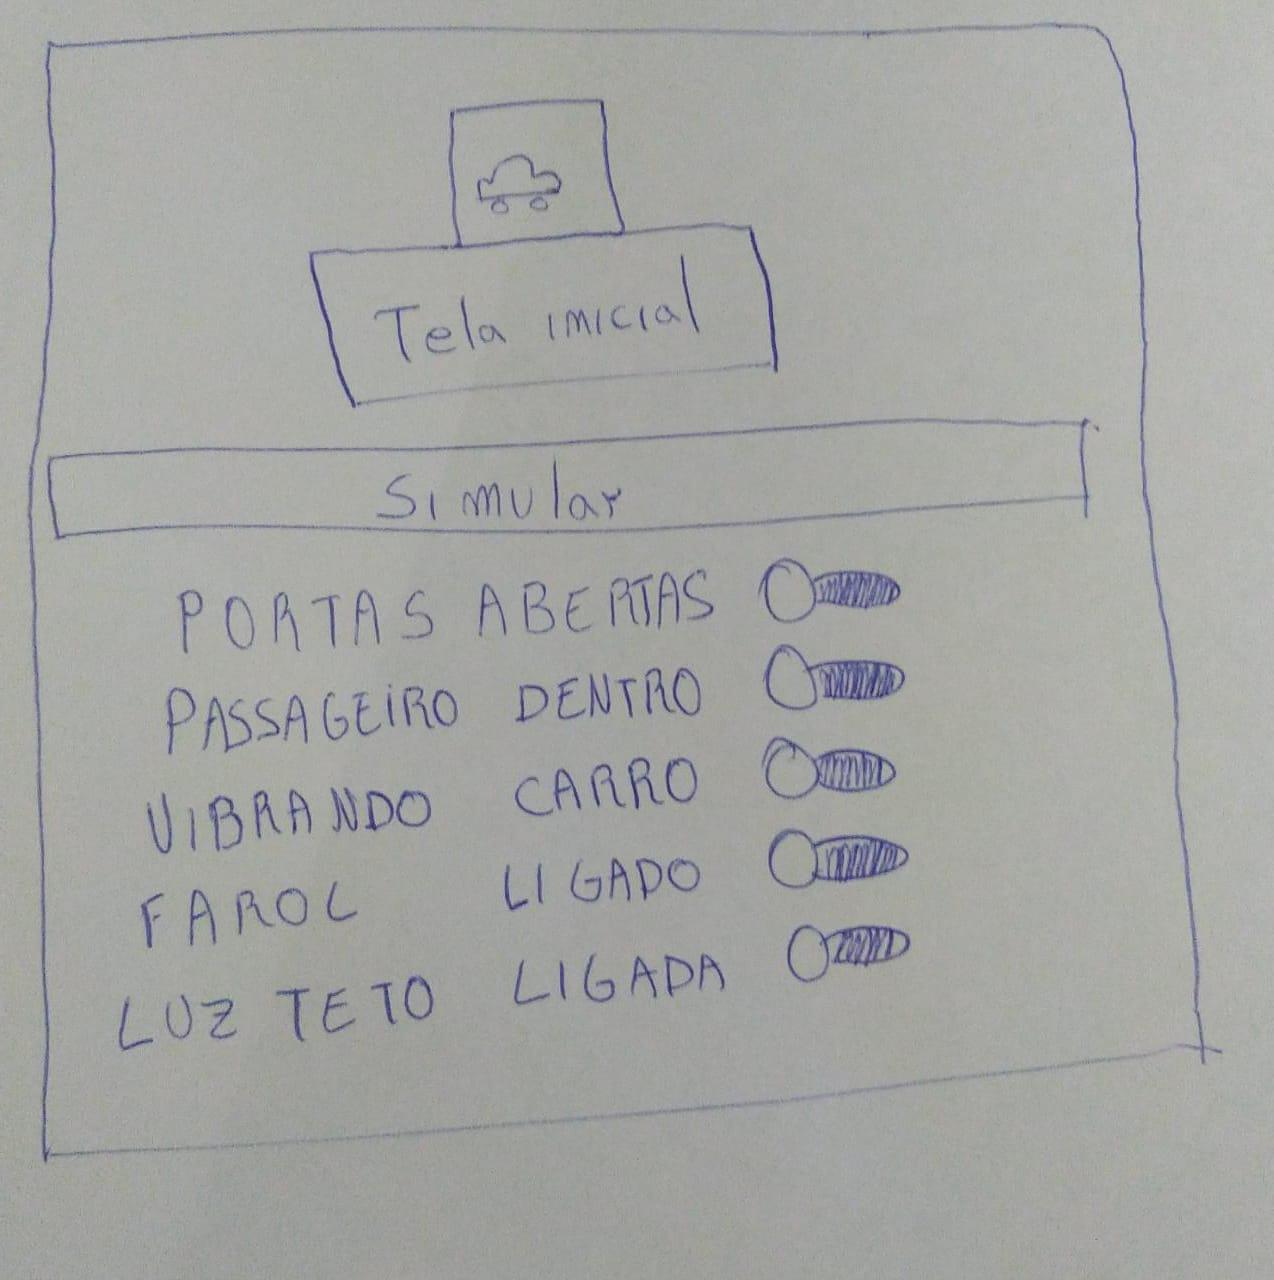Button: (47, 417, 1088, 538), (310, 223, 780, 407)
Image: (444, 97, 625, 246)
Screen: (26, 23, 1203, 1160)
Switch: (116, 924, 911, 1050), (140, 831, 911, 947), (146, 735, 897, 854), (167, 644, 905, 755), (178, 557, 902, 655)
